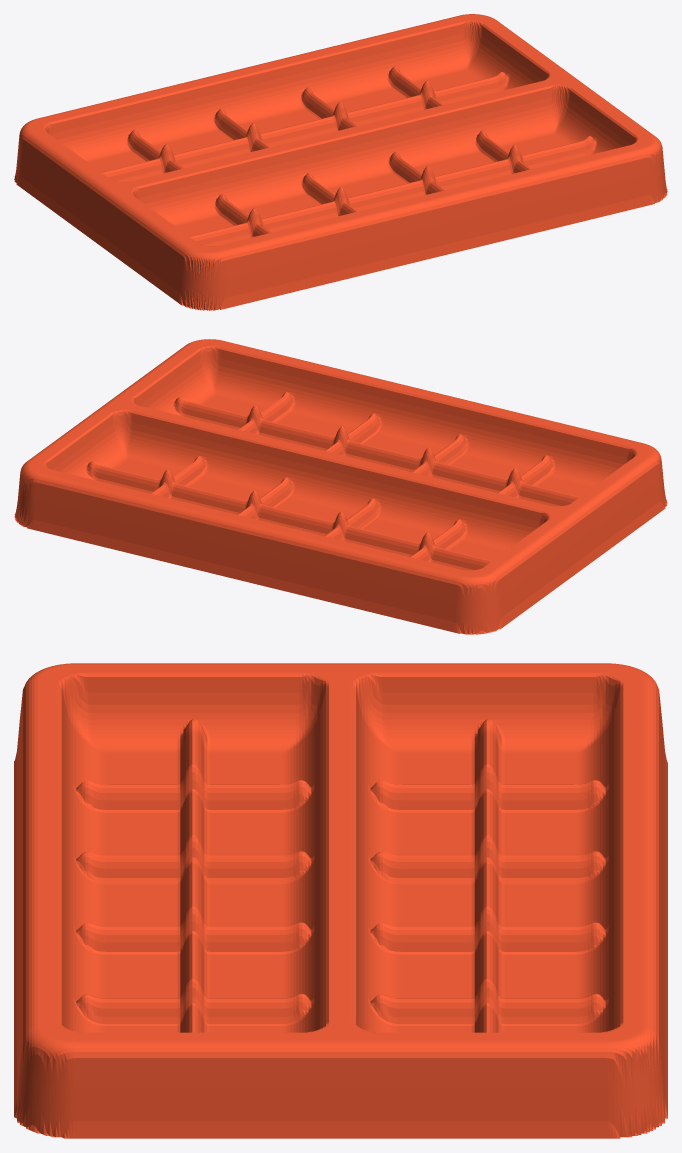
Rendered from mold.glb.
The picture shows the model from 3 angles, top to bottom: view 1: azimuth 30°, elevation 25°; view 2: azimuth 150°, elevation 25°; view 3: azimuth 270°, elevation 25°; orthographic projection. The views are drawn at different scales.
Parts seen in each view (by area): view 1: geometry_0; view 2: geometry_0; view 3: geometry_0.
Boxes of the visible parts, <box> form: geometry_0: <box>14,14,667,310</box>; geometry_0: <box>14,339,667,634</box>; geometry_0: <box>14,663,667,1138</box>.
Bounding box in the file's own units: 0.1417 × 0.0145 × 0.0986.
